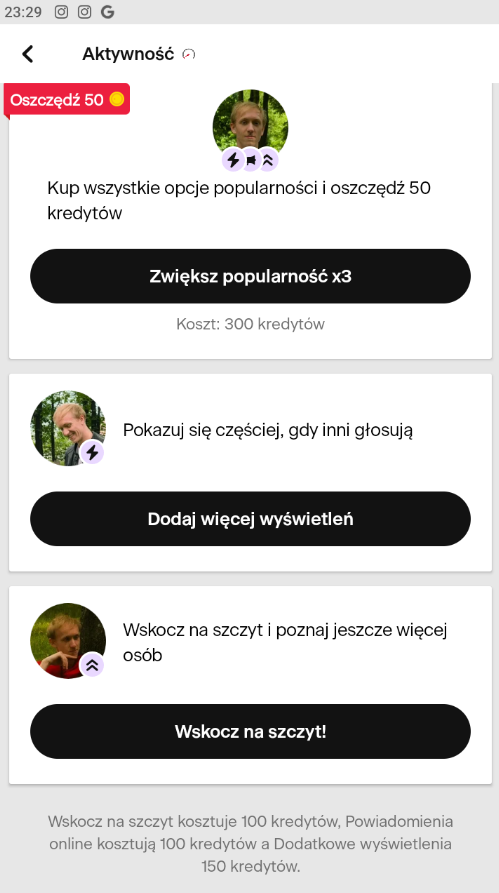kupno_button: (31, 245, 474, 304), (31, 489, 471, 546), (31, 704, 470, 760)
